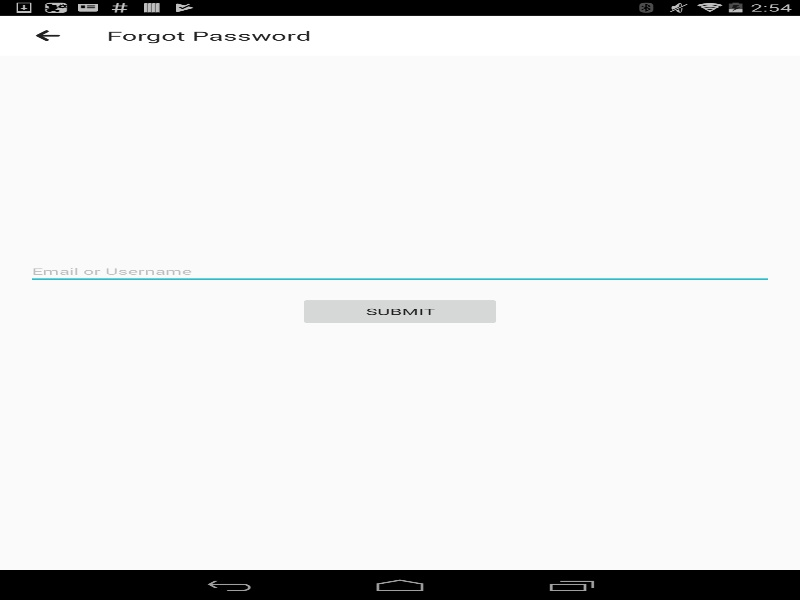Button: (298, 296, 501, 326), (10, 15, 85, 55)
Input: (26, 259, 773, 284)
